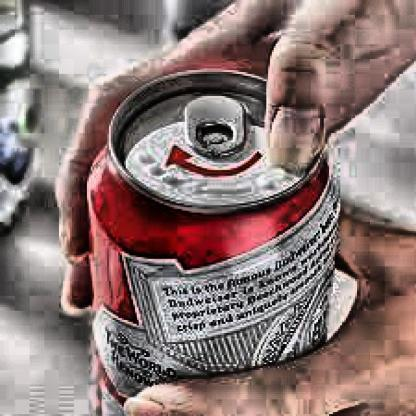Can: (86, 64, 340, 416)
